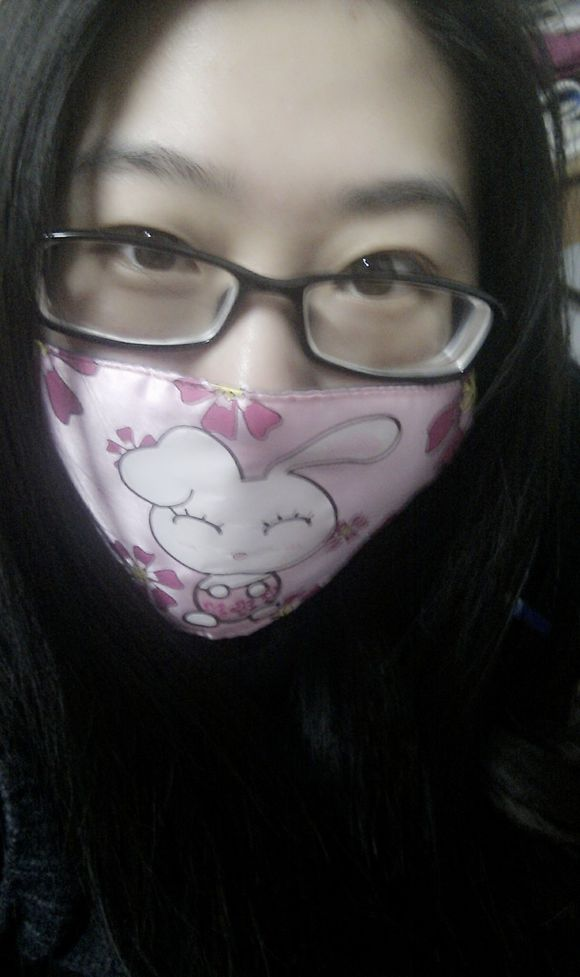face_mask: (37, 1, 475, 627)
